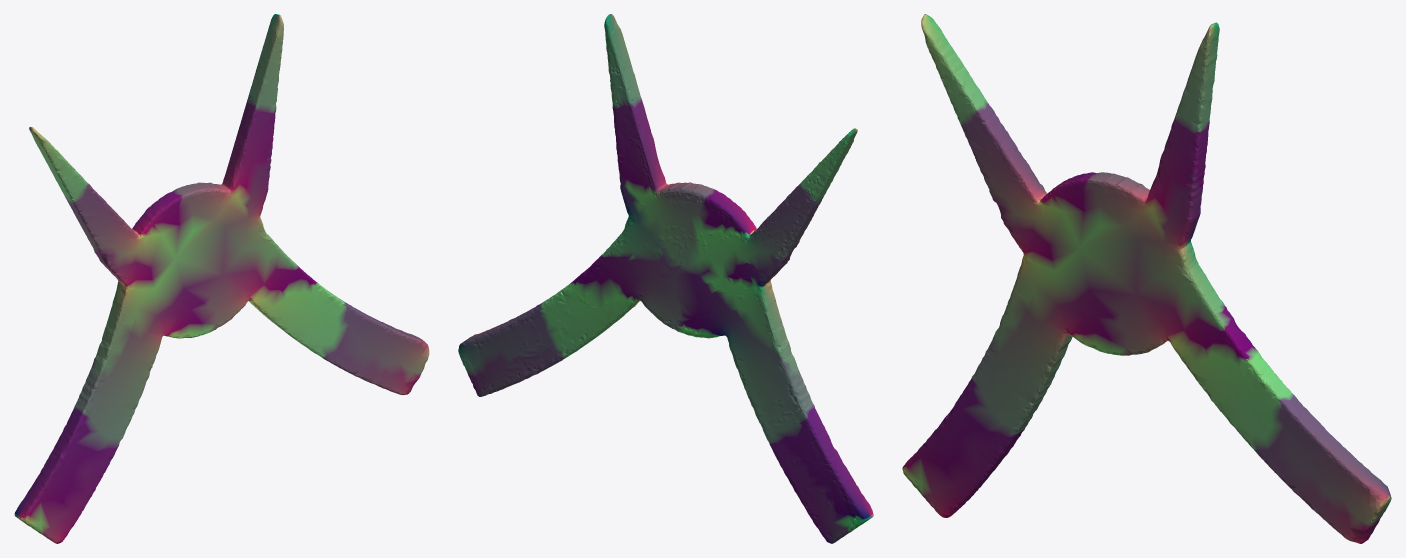
The model's file is scissor-16.off.obj.
3 views of the same model, side by side, from view 1: azimuth 30°, elevation 25°; view 2: azimuth 150°, elevation 25°; view 3: azimuth 330°, elevation 25° (orthographic). The views are drawn at different scales.
Size of the model in its own units: 1.4 by 1.54 by 0.0616.
